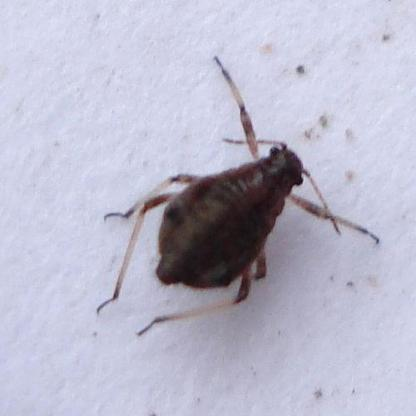aphid: (100, 50, 380, 338)
